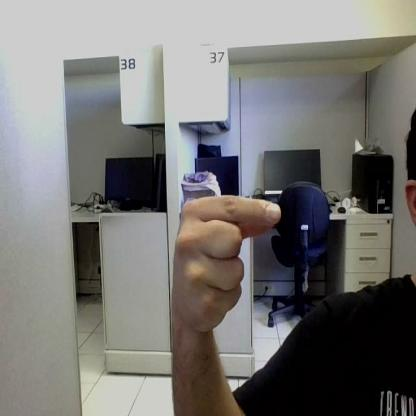G: (173, 195, 278, 333)
